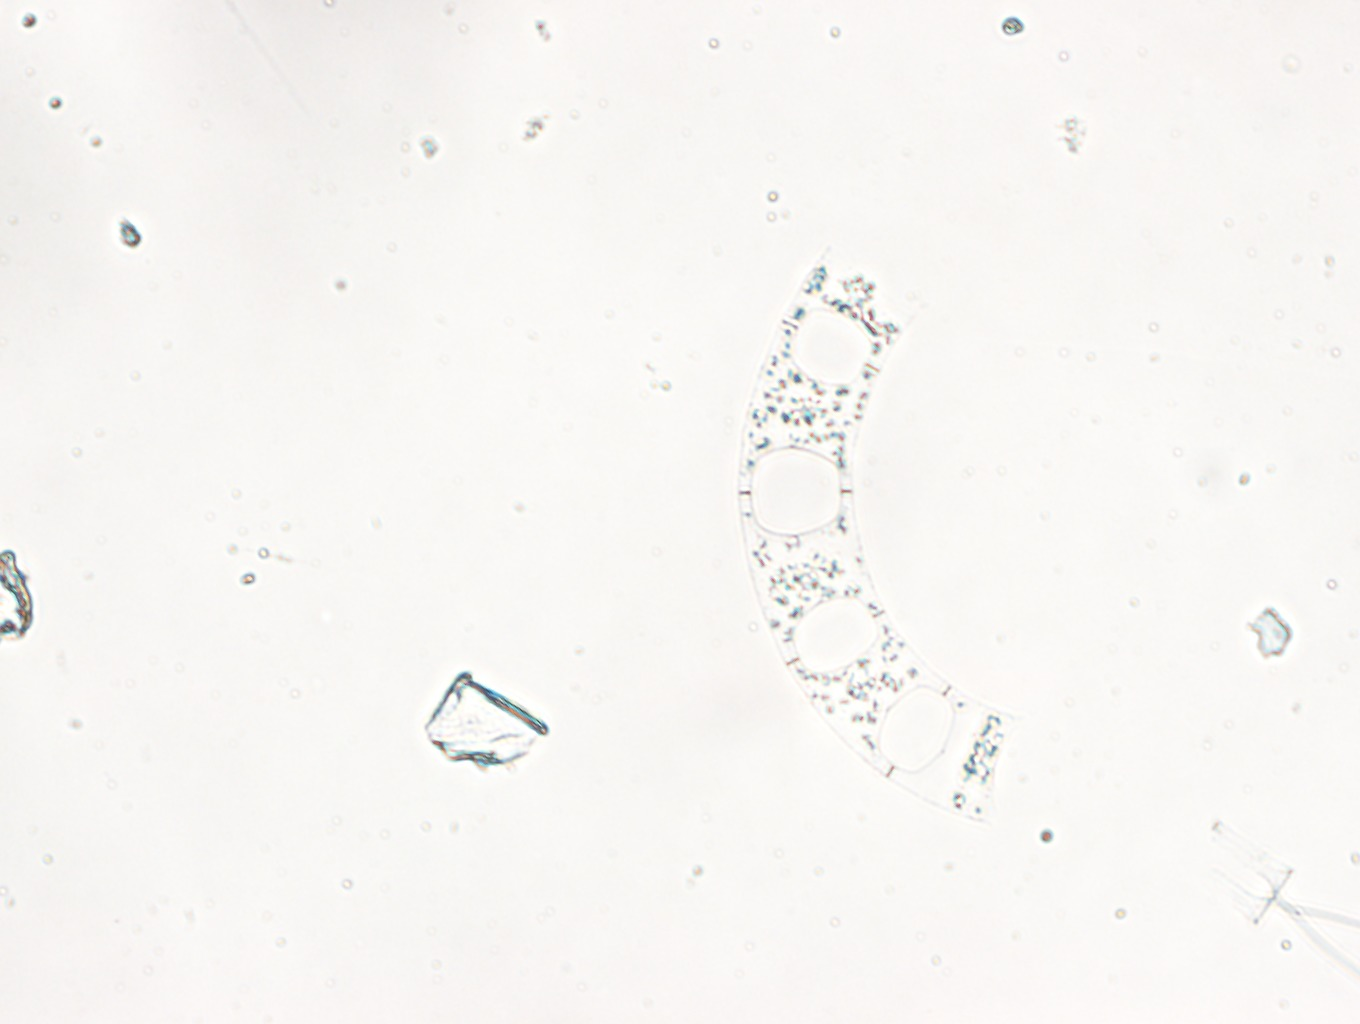eucampia: (735, 248, 1008, 824)
